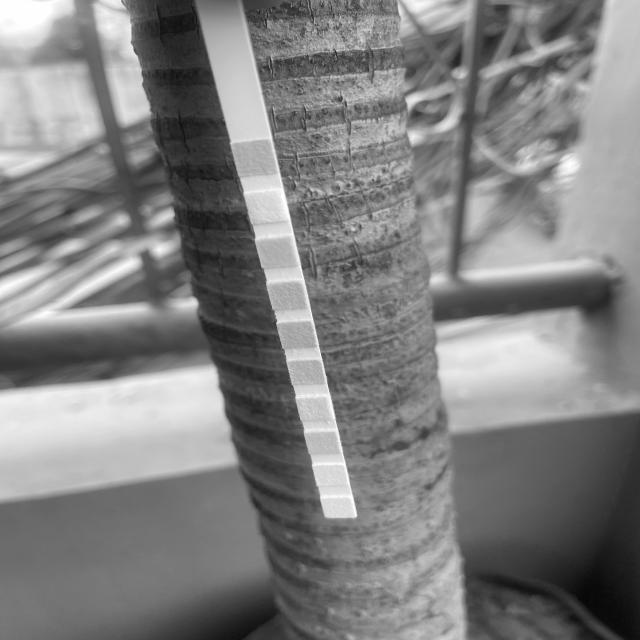Bilirubin: (249, 192, 284, 222)
Blood: (282, 322, 315, 346)
Glucose: (238, 144, 274, 174)
Ketone: (261, 238, 294, 267)
Leukocytes: (324, 499, 351, 518)
Nitrite: (317, 465, 344, 485)
Protein: (301, 398, 328, 421)
SpGravity: (272, 283, 306, 309)
Urobilinogen: (310, 431, 336, 454)
background: (0, 0, 640, 640)
pH: (291, 361, 320, 384)
strip: (196, 2, 358, 518)
